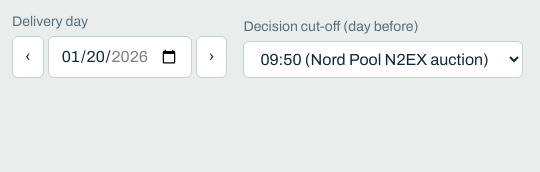
Test: leaving the day box with an unusable day shows the chosen day again
Type "2026-01-01" into the date field labelled "Delivery day".
click(120, 57); type("2026-01-01")  # box [48, 36, 192, 78]
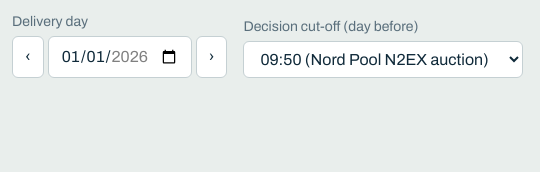
Leave the date field labelled "Delivery day", box [48, 36, 192, 78]
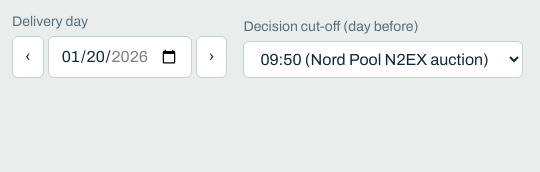
expect the date field labelled "Delivery day" holds "2026-01-20": met, box [48, 36, 192, 78]
